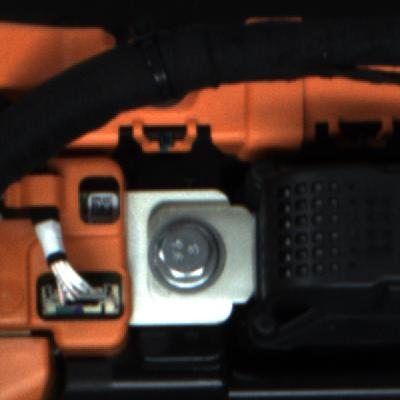nut_b: (142, 211, 238, 297)
